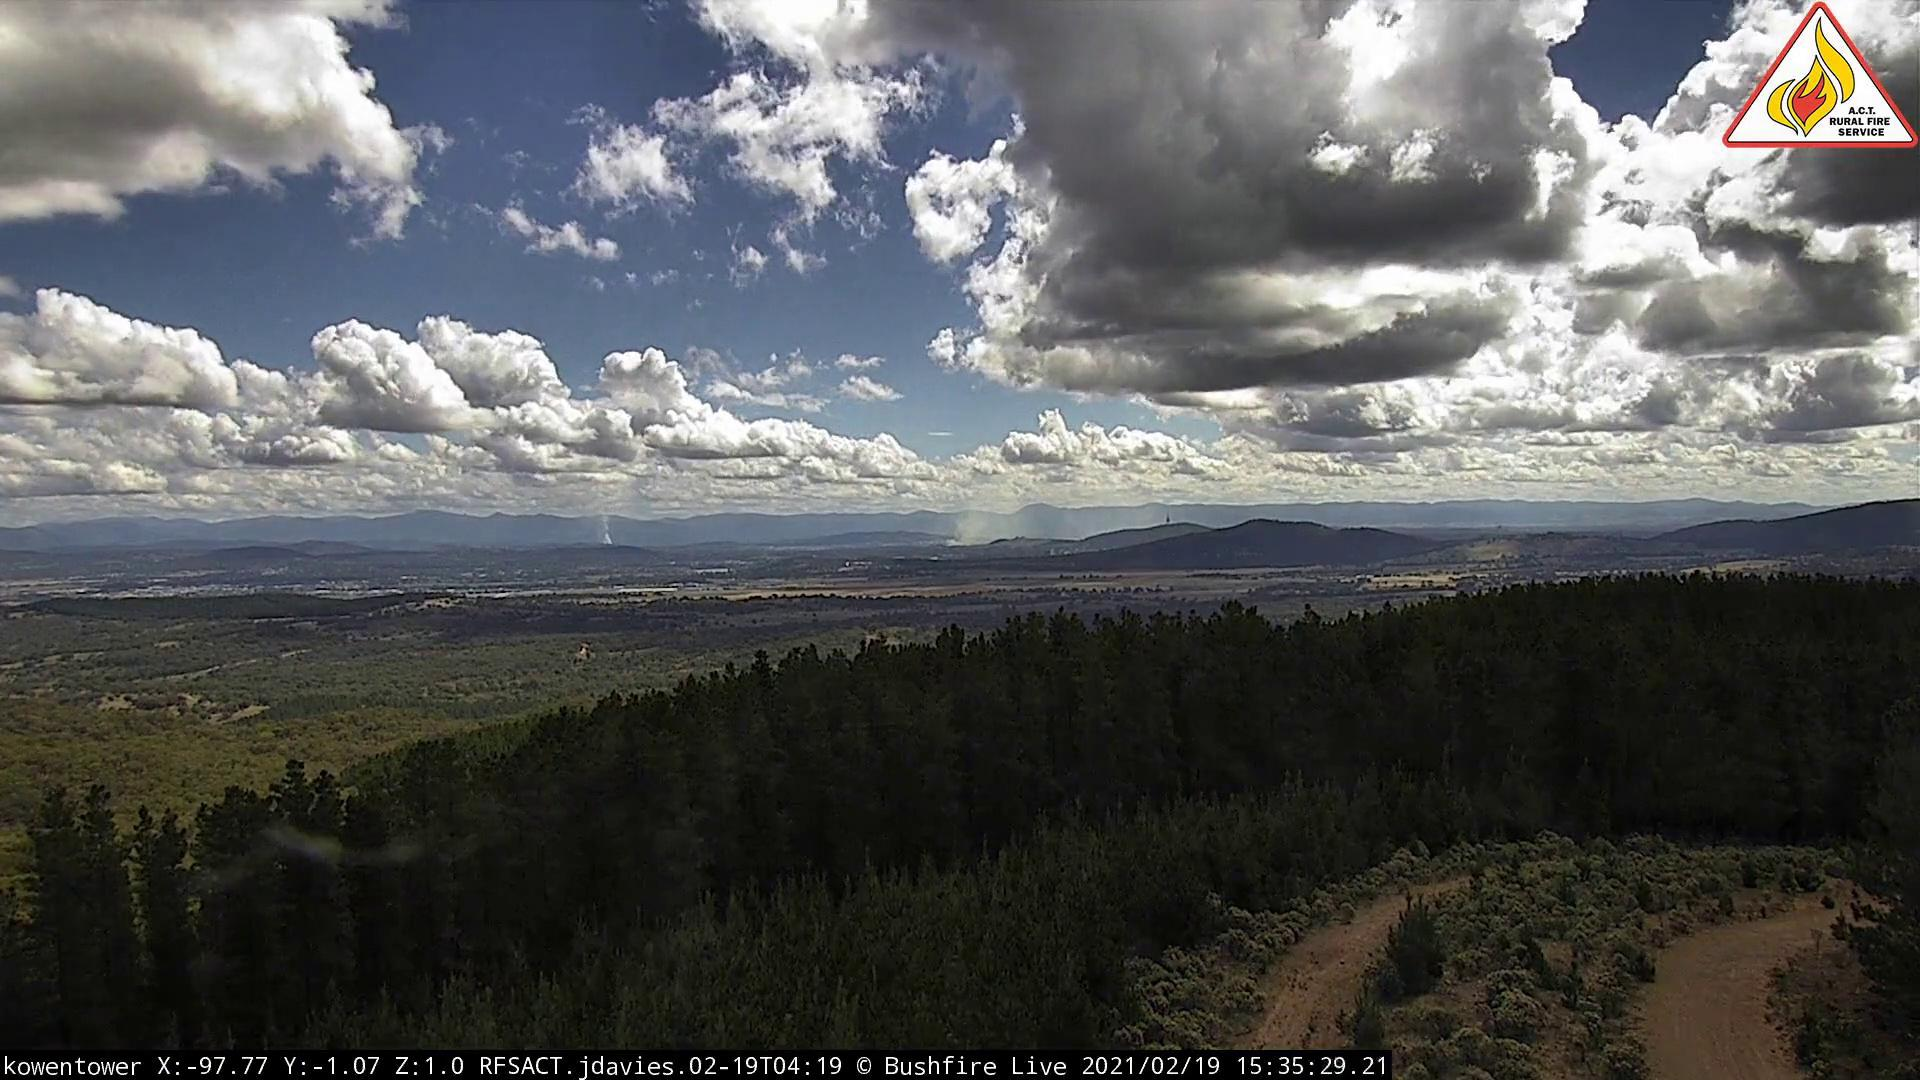Smoke: (945, 491, 1052, 550), (600, 524, 625, 551)
